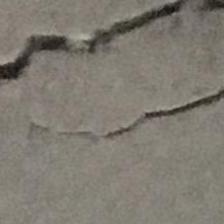Crack: (0, 0, 224, 144)
